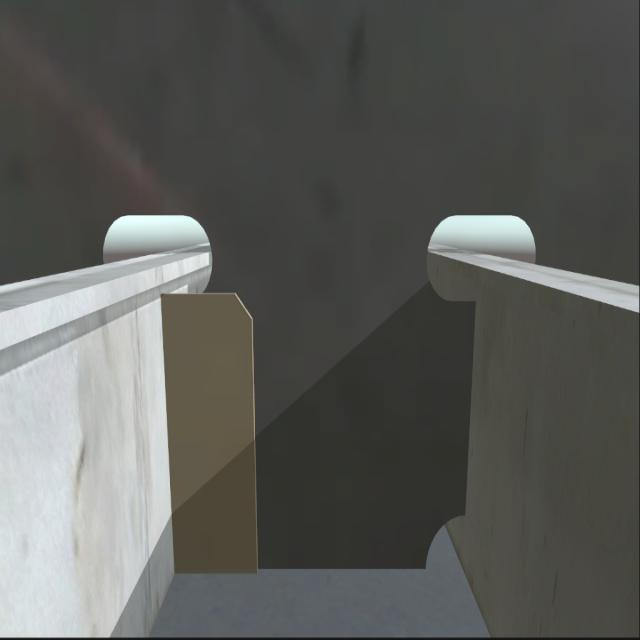fillet_hole: (425, 521, 464, 566)
fillet_yong_jeop_jang: (172, 554, 429, 580)
longi_yong_jeop_jang: (451, 293, 481, 526), (162, 287, 180, 576)
plate_CP03: (169, 281, 259, 571)
